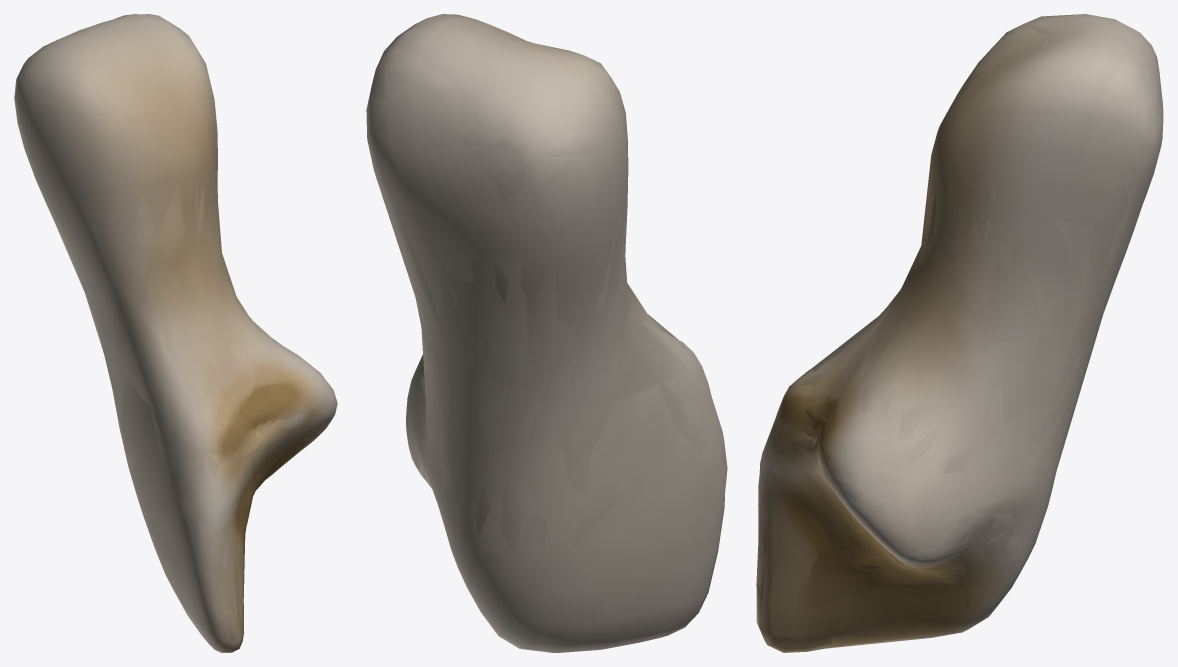
The model's file is R calcaneus.fbx.
The picture shows the model from 3 angles, left to right: view 1: azimuth 30°, elevation 25°; view 2: azimuth 150°, elevation 25°; view 3: azimuth 270°, elevation 25°; orthographic projection. The views are drawn at different scales.
Visible parts, largest first — view 1: R calcaneus, R calcaneus low; view 2: R calcaneus, R calcaneus low; view 3: R calcaneus, R calcaneus low.
Boxes of the visible parts, x1,y1,x2,y2 form: R calcaneus: (14,14,337,652); R calcaneus low: (16,14,337,647); R calcaneus: (366,14,727,652); R calcaneus low: (366,22,727,632); R calcaneus: (756,14,1163,652); R calcaneus low: (756,16,1163,649).
Bounding box in the file's own units: 2.07 × 4.78 × 2.8.
